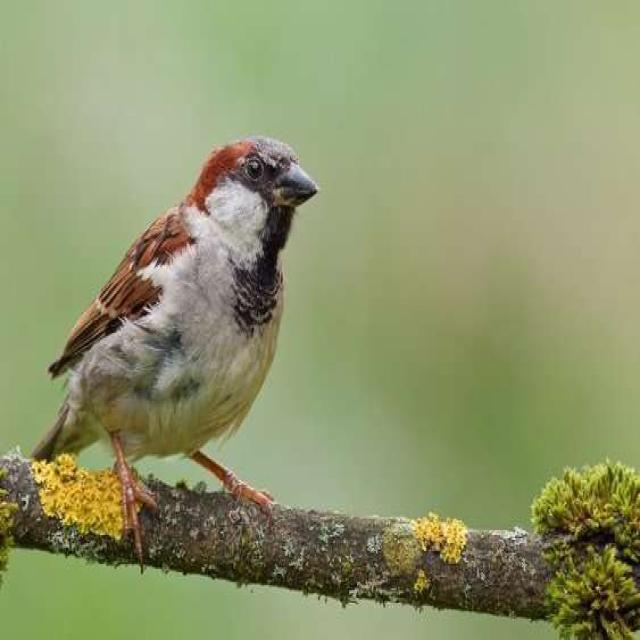Sparrow: (51, 122, 328, 561)
